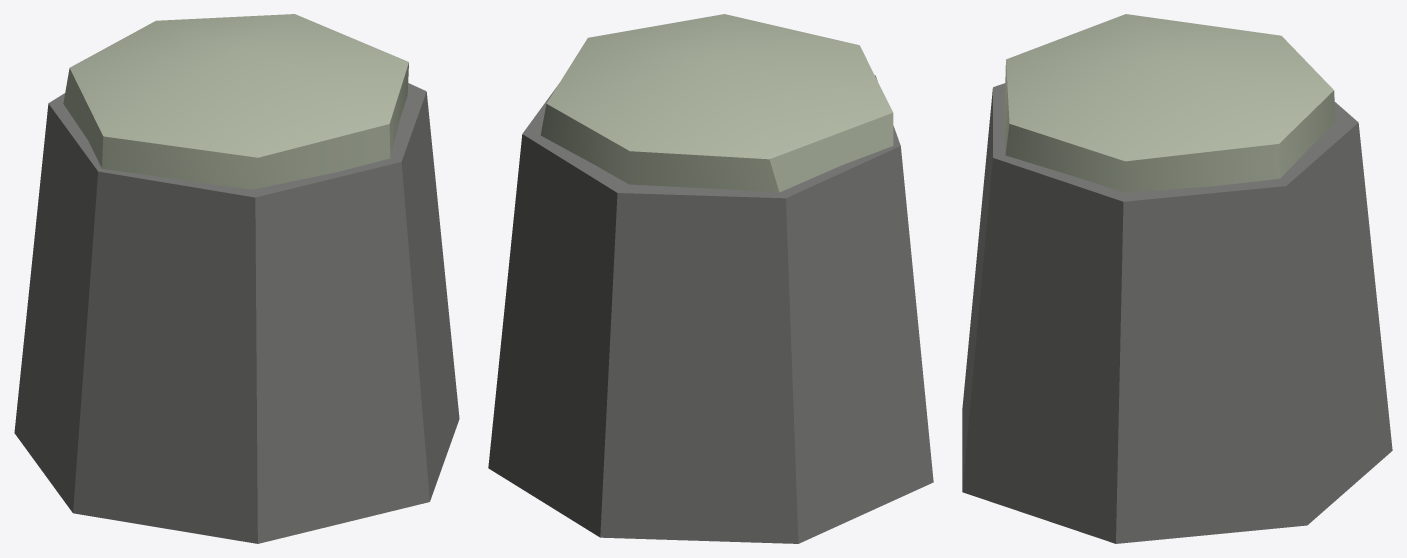
The model's file is stump.glb.
3 views of the same model, side by side, from view 1: azimuth 30°, elevation 25°; view 2: azimuth 150°, elevation 25°; view 3: azimuth 270°, elevation 25° (orthographic).
Parts seen in each view (by area): view 1: stump; view 2: stump; view 3: stump.
Boxes of the visible parts, x1,y1,x2,y2 form: stump: (14,14,459,543); stump: (488,14,933,543); stump: (962,14,1392,543).
Bounding box in the file's own units: 0.195 × 0.1915 × 0.1901.
